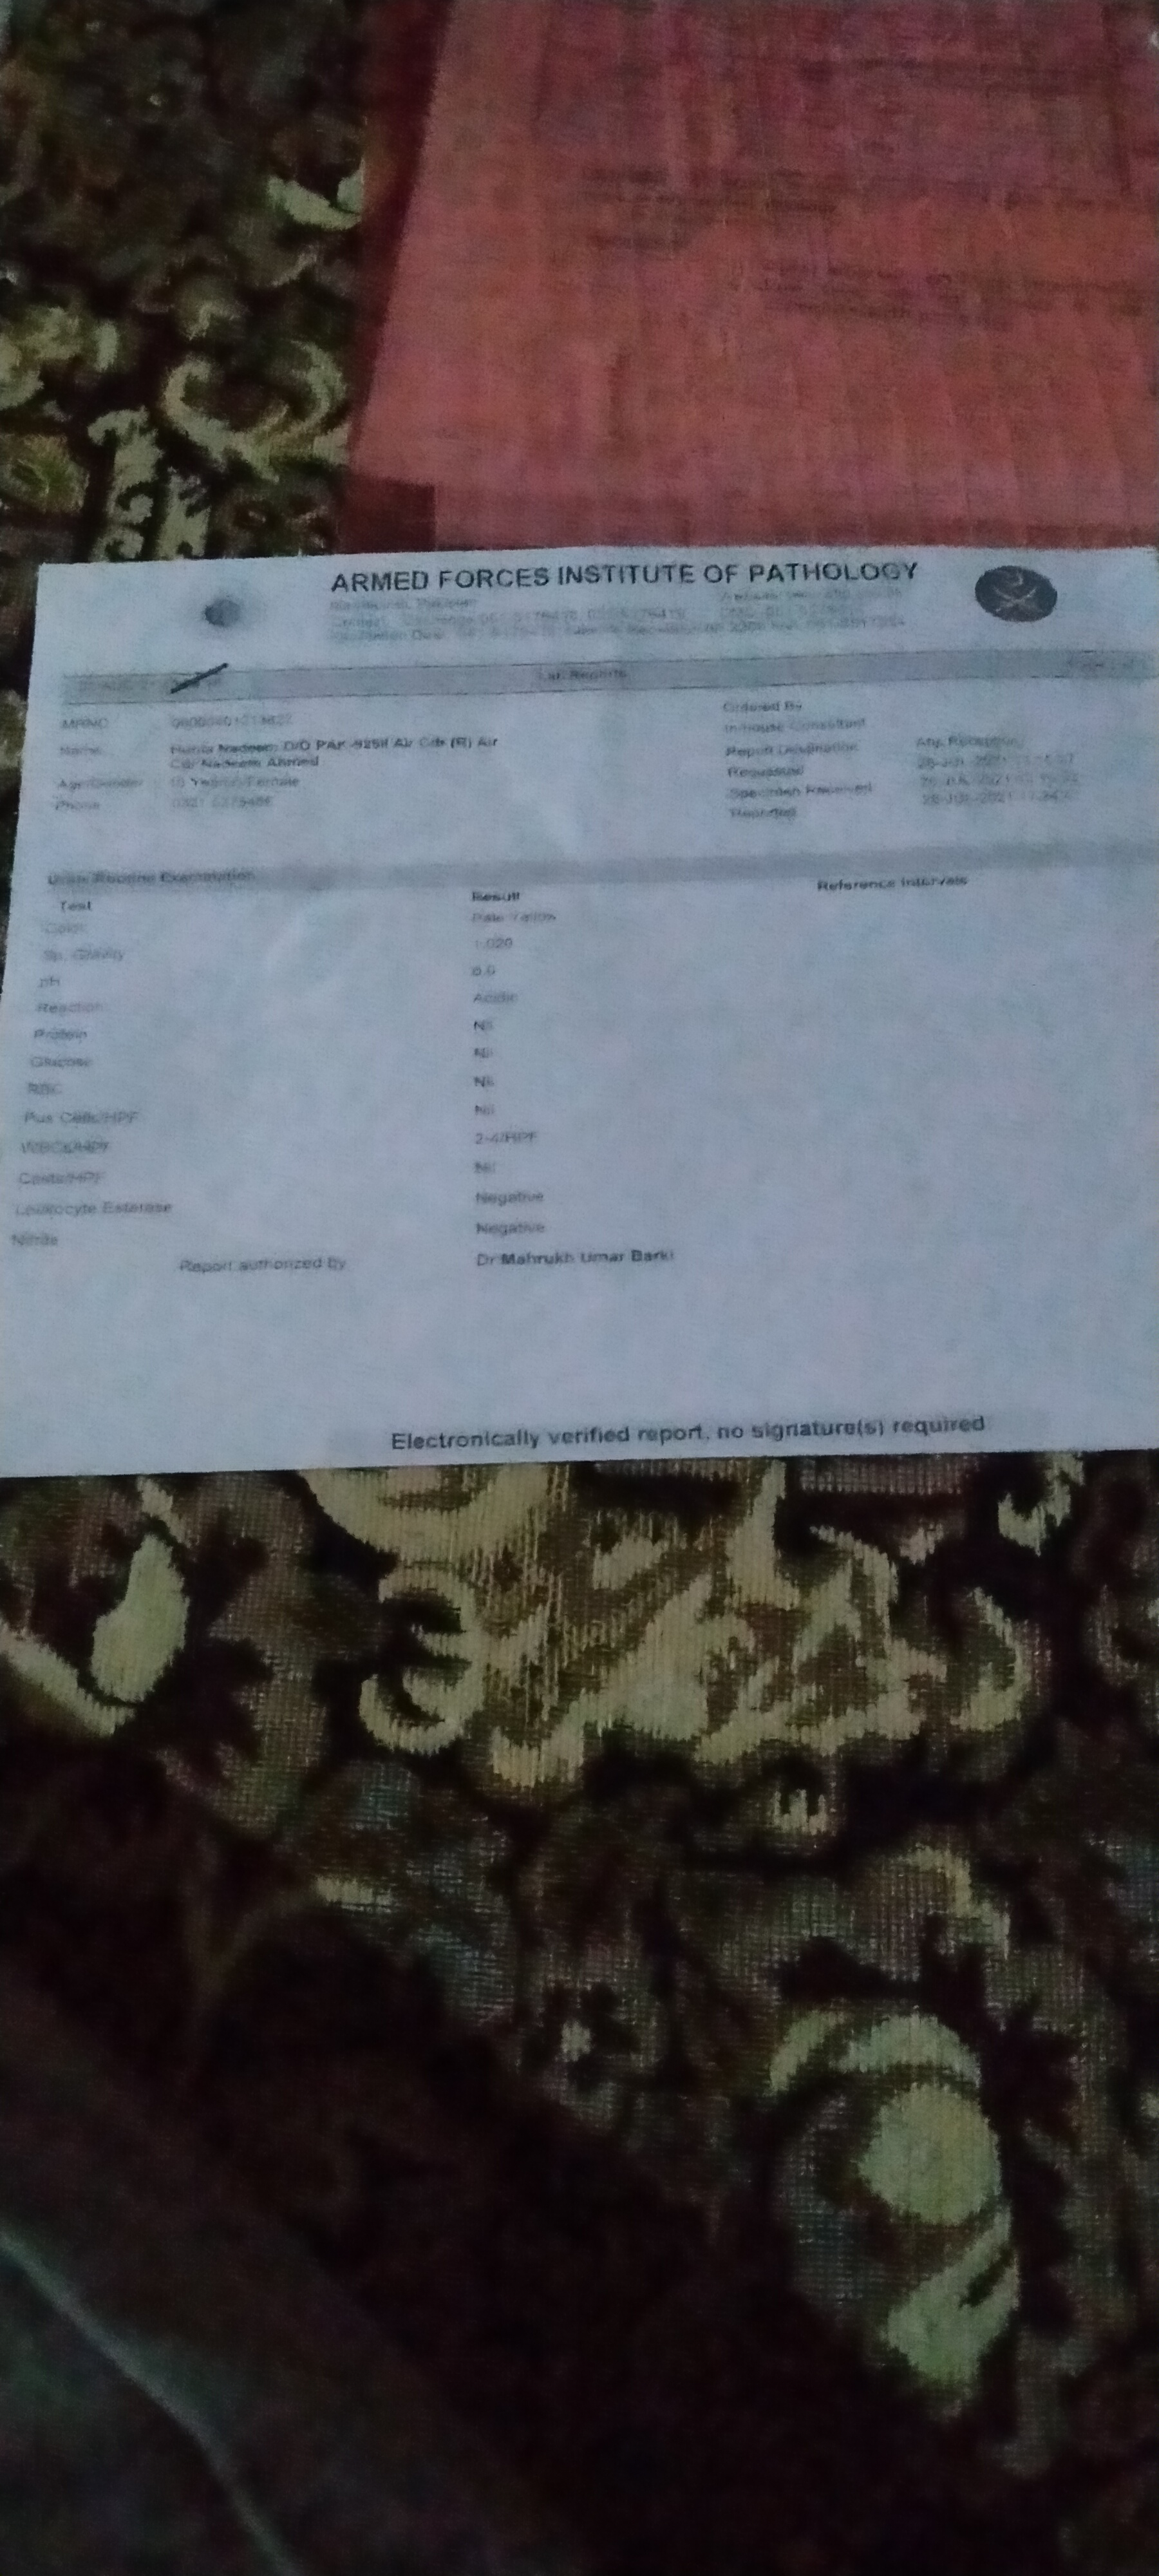report: (13, 851, 1120, 1306)
